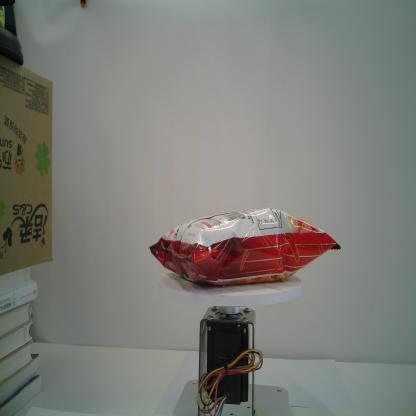Puffed Food: (148, 207, 342, 287)
